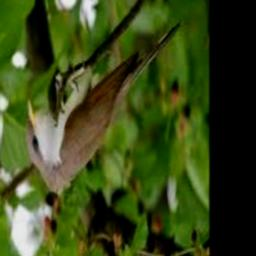Cuckoo: (28, 22, 181, 194)
